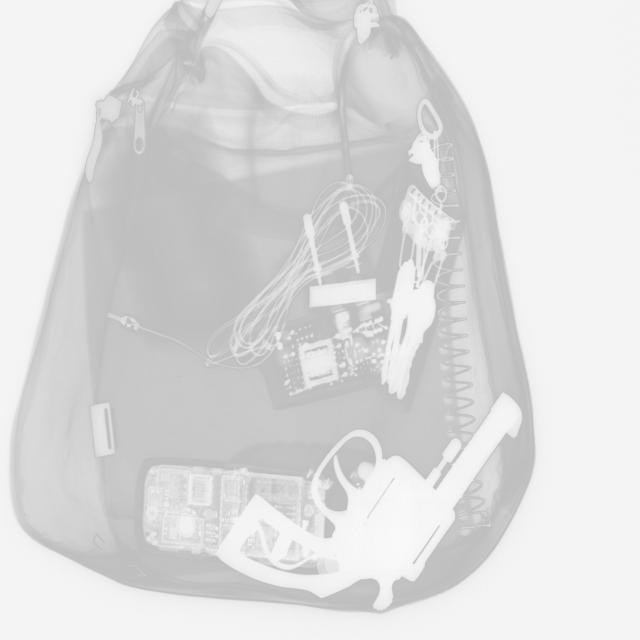pistol: (212, 389, 526, 615)
